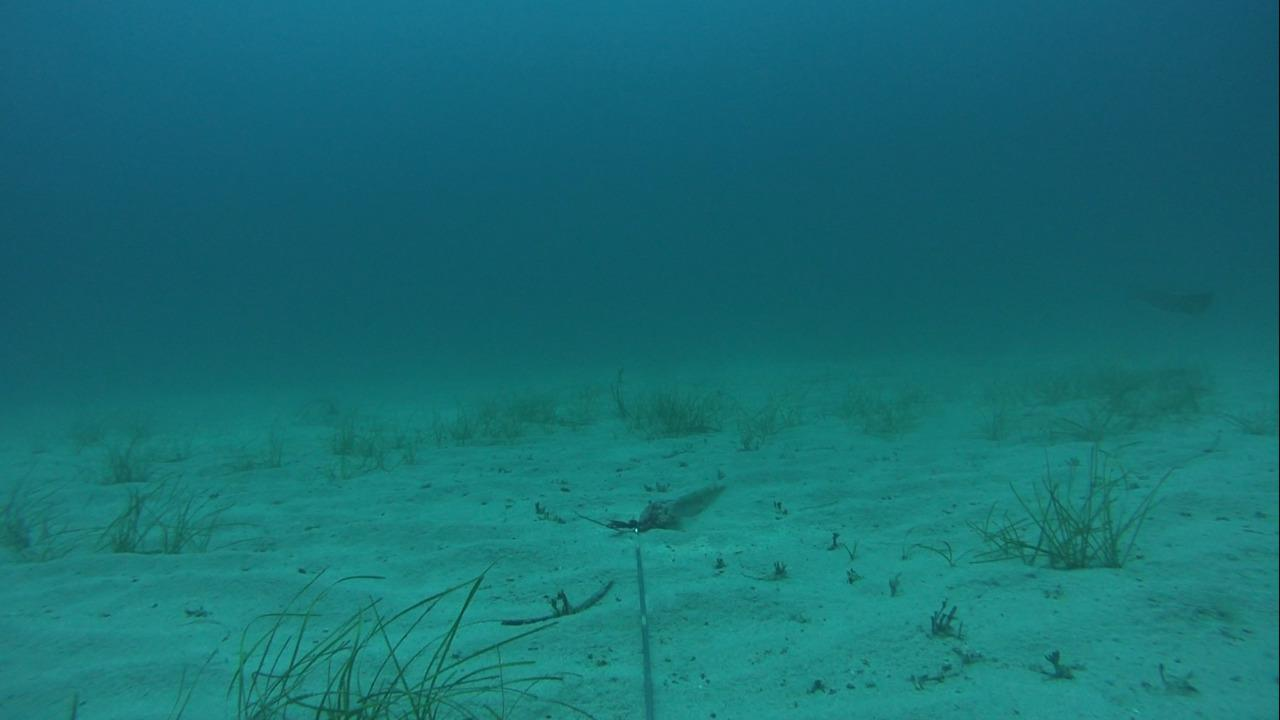myliobatis: (1077, 277, 1216, 326)
raor: (662, 477, 736, 528)
